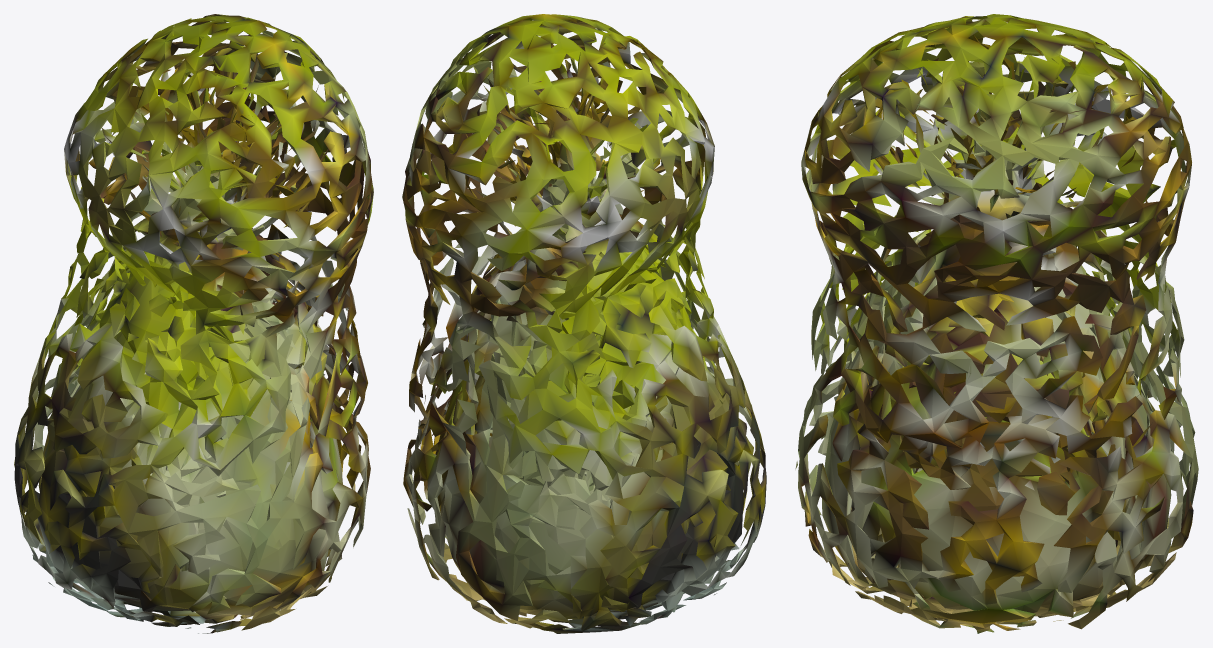
The model's file is fallenKnight.glb.
3 views of the same model, side by side, from view 1: azimuth 30°, elevation 25°; view 2: azimuth 150°, elevation 25°; view 3: azimuth 270°, elevation 25° (orthographic). The views are drawn at different scales.
Visible parts, largest first — view 1: world; view 2: world; view 3: world.
Part boxes in pixels (left/top/right/bottom): world: left=14, top=14, right=373, bottom=633; world: left=402, top=14, right=766, bottom=633; world: left=795, top=14, right=1198, bottom=633.
Bounding box in the file's own units: 0.5707 × 1 × 0.6012.
